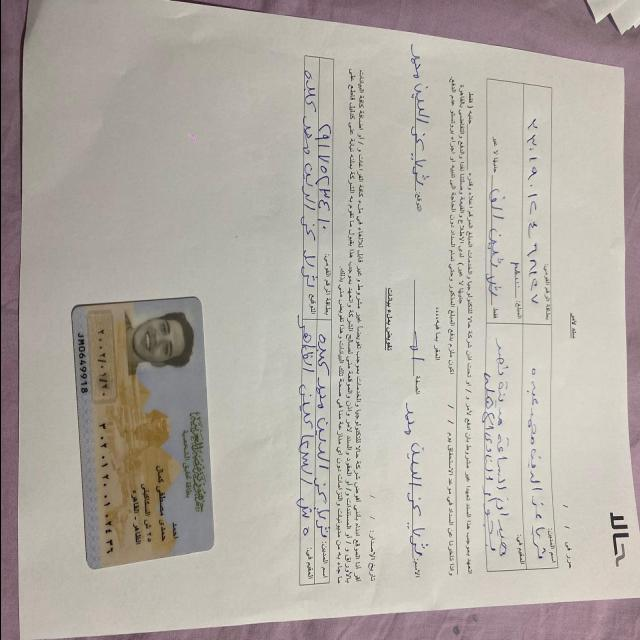id_card: (67, 295, 218, 576)
